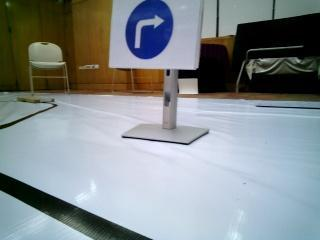right: (112, 0, 202, 70)
